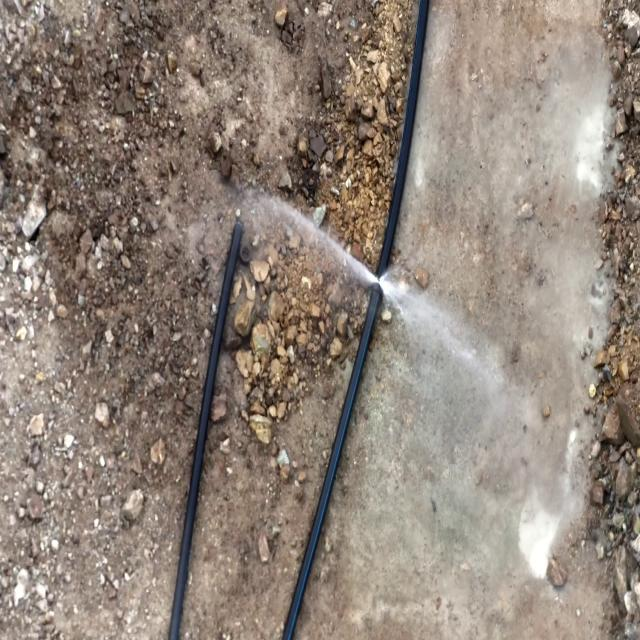leak: (265, 186, 433, 337)
